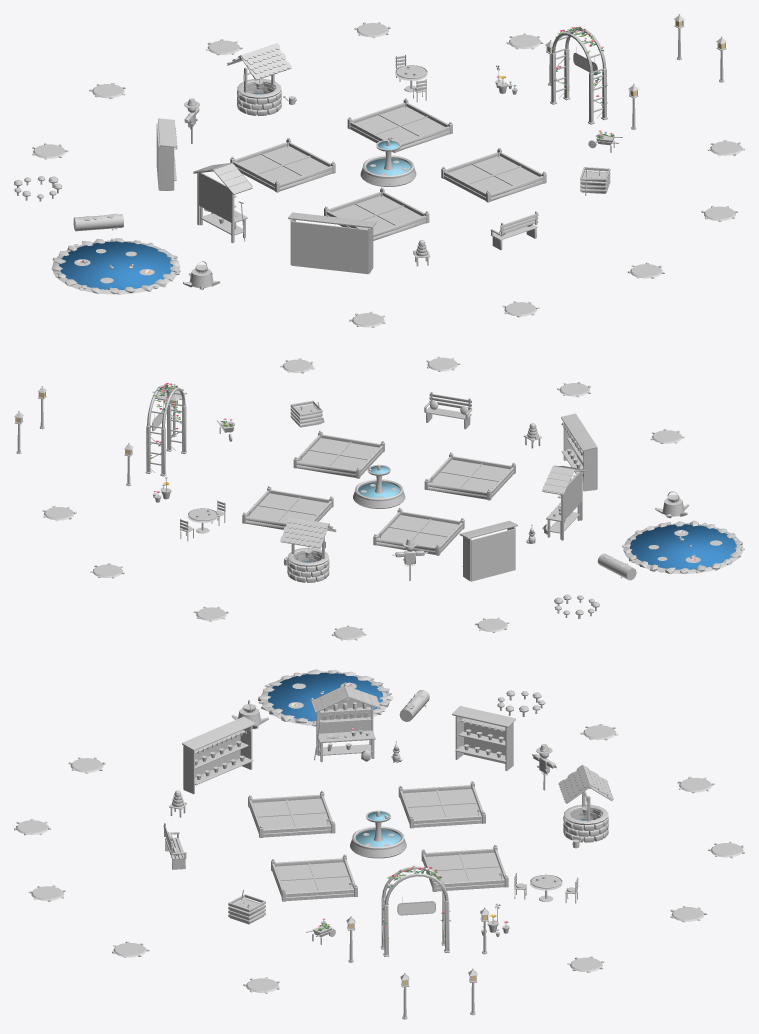
The model's file is zon_garden.glb.
The picture shows the model from 3 angles, top to bottom: view 1: azimuth 30°, elevation 25°; view 2: azimuth 150°, elevation 25°; view 3: azimuth 270°, elevation 25°; orthographic projection. The views are drawn at different scales.
Visible parts, largest first — view 1: SM_zon_garden_kit_garden_xm1_z0_LOD0, SM_zon_garden_garden_pondwater_xm1_z0, SM_zon_garden_garden_water_xm1_z0; view 2: SM_zon_garden_kit_garden_xm1_z0_LOD0, SM_zon_garden_garden_pondwater_xm1_z0, SM_zon_garden_garden_water_xm1_z0; view 3: SM_zon_garden_kit_garden_xm1_z0_LOD0, SM_zon_garden_garden_pondwater_xm1_z0, SM_zon_garden_garden_water_xm1_z0.
Boxes of the visible parts, <box> form: SM_zon_garden_kit_garden_xm1_z0_LOD0: <box>14,14,744,327</box>; SM_zon_garden_garden_pondwater_xm1_z0: <box>59,241,172,289</box>; SM_zon_garden_garden_water_xm1_z0: <box>253,93,410,175</box>; SM_zon_garden_kit_garden_xm1_z0_LOD0: <box>14,356,744,640</box>; SM_zon_garden_garden_pondwater_xm1_z0: <box>630,524,736,569</box>; SM_zon_garden_garden_water_xm1_z0: <box>302,465,400,562</box>; SM_zon_garden_kit_garden_xm1_z0_LOD0: <box>14,669,744,1019</box>; SM_zon_garden_garden_pondwater_xm1_z0: <box>268,672,382,721</box>; SM_zon_garden_garden_water_xm1_z0: <box>355,811,591,846</box>.
Bounding box in the file's own units: 33.62 × 3.85 × 29.75.
